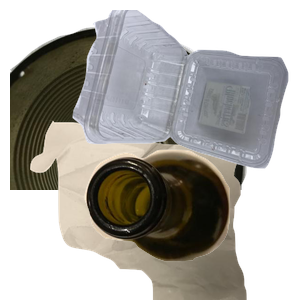glass: (82, 147, 300, 300)
metal: (10, 23, 250, 203)
plastic: (70, 10, 300, 171)
trash: (28, 120, 267, 300)
